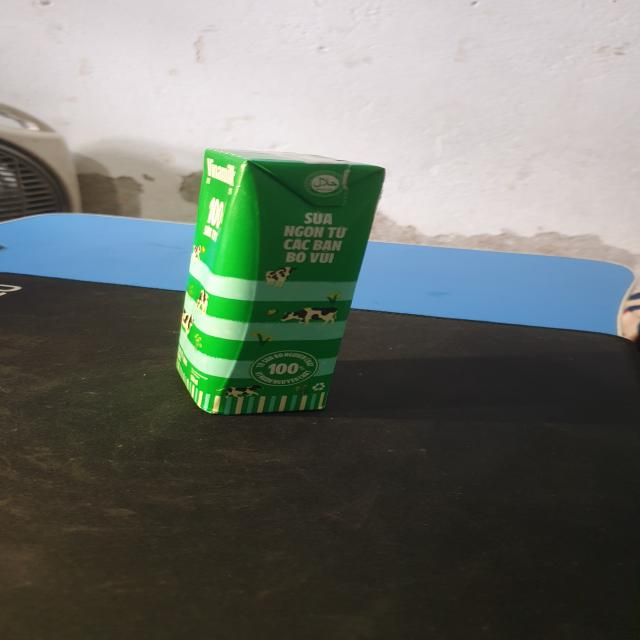Vina: (168, 145, 395, 419)
